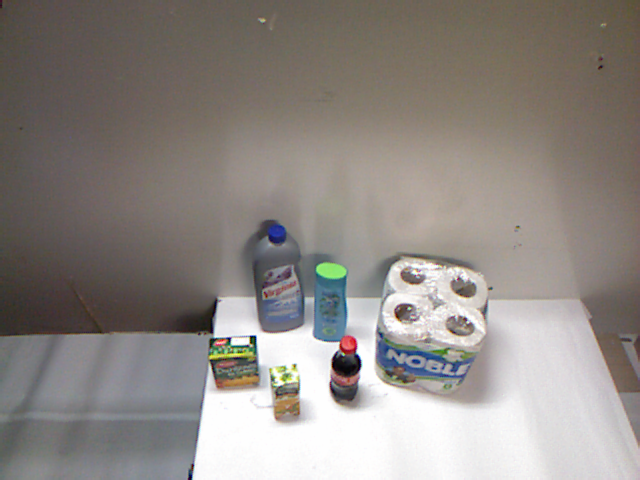aerosol: (343, 248, 387, 341)
cera: (227, 222, 288, 336)
desodorante: (324, 330, 360, 377)
ketchup: (254, 311, 301, 378)
lata: (390, 283, 434, 349)
leche: (289, 252, 347, 335)
